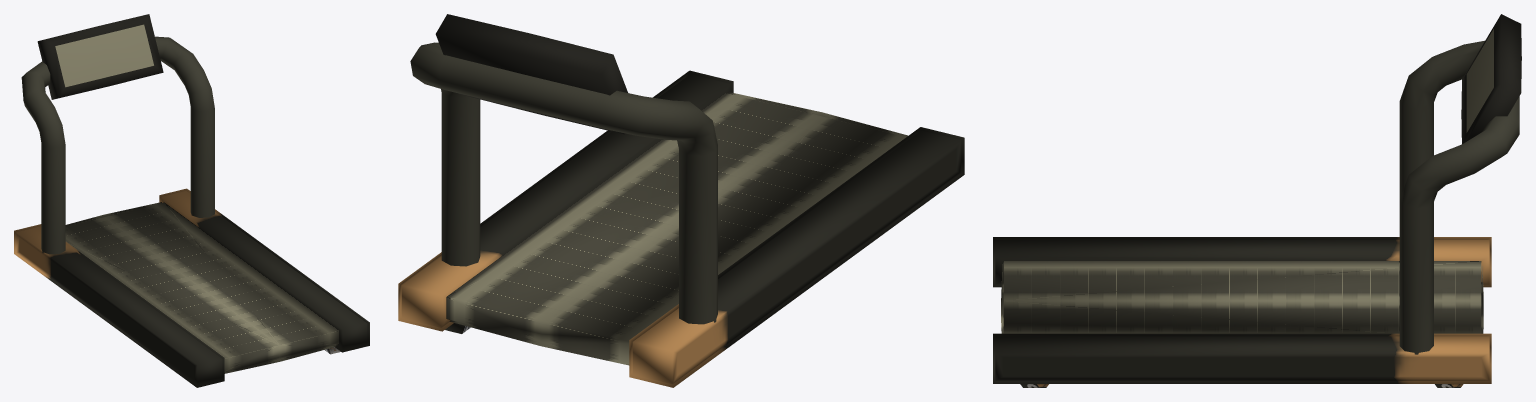
The model's file is Model_Prop_Treadmill.fbx.
3 views of the same model, side by side, from view 1: azimuth 30°, elevation 25°; view 2: azimuth 150°, elevation 25°; view 3: azimuth 270°, elevation 25° (orthographic). The views are drawn at different scales.
Visible parts, largest first — view 1: Cube.029, Cube.035; view 2: Cube.029, Cube.035; view 3: Cube.029, Cube.035.
Part boxes in pixels (x1,y1,x2,y2): Cube.029: (16,191,367,385); Cube.035: (14,14,369,387); Cube.029: (401,74,961,384); Cube.035: (398,14,964,387); Cube.029: (995,239,1489,380); Cube.035: (993,14,1521,387).
Bounding box in the file's own units: 1.52 × 1.78 × 2.93.
